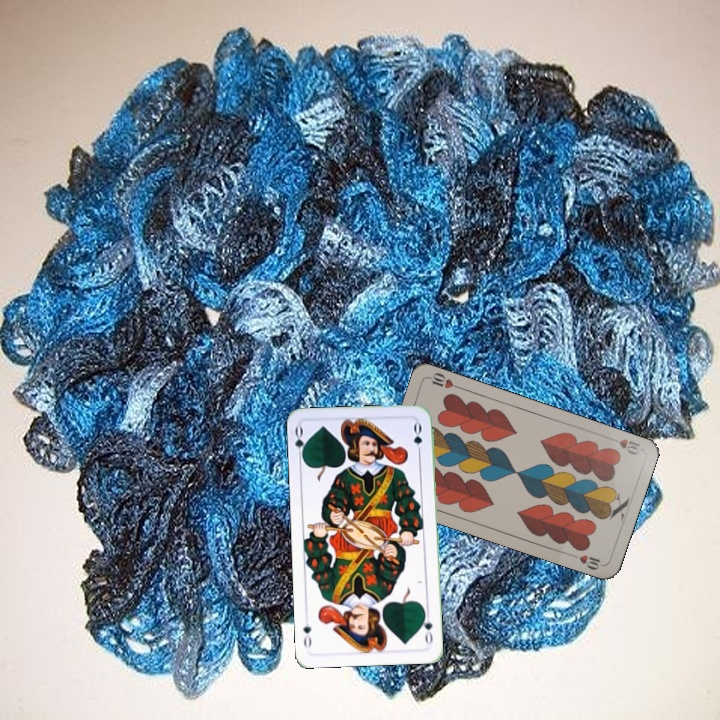GO: (291, 423, 310, 463), (418, 607, 435, 647)
H10: (605, 433, 642, 457)
